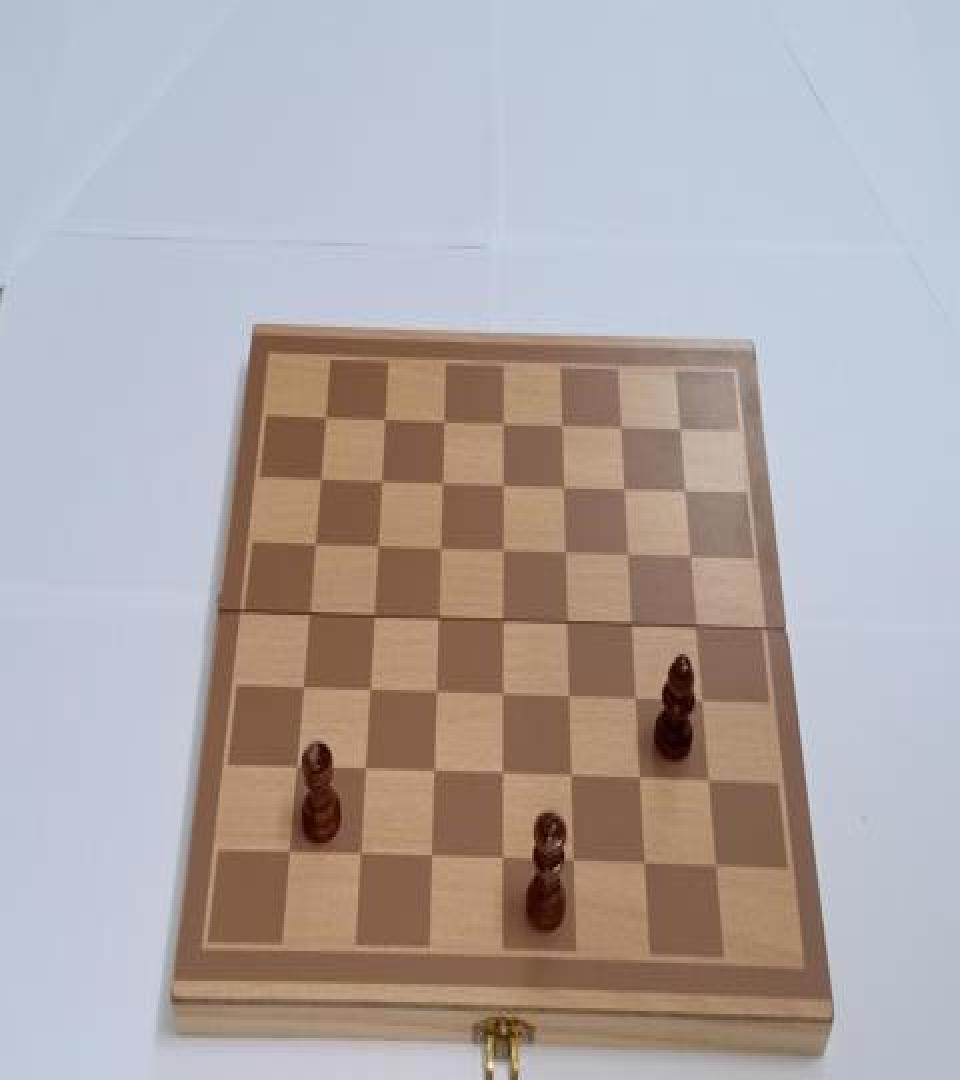xcorner: (315, 400, 333, 428), (372, 466, 390, 494), (556, 472, 574, 500), (305, 531, 323, 558), (293, 678, 311, 705), (280, 843, 298, 870), (375, 404, 393, 431), (368, 532, 386, 559), (364, 604, 382, 631), (356, 759, 374, 786), (352, 846, 370, 873), (435, 405, 453, 432), (433, 468, 451, 495), (430, 606, 448, 633), (428, 681, 446, 708), (426, 762, 444, 789), (494, 408, 512, 435), (495, 471, 513, 498), (495, 537, 513, 564), (495, 683, 513, 710), (496, 849, 514, 876), (558, 538, 576, 565), (560, 610, 578, 637), (565, 765, 583, 792), (568, 851, 586, 878), (613, 411, 631, 438), (617, 474, 635, 501), (625, 612, 643, 639), (629, 687, 647, 714), (634, 768, 652, 795), (673, 414, 691, 441), (678, 477, 696, 504), (684, 543, 702, 570), (696, 689, 714, 716), (710, 855, 728, 882), (310, 464, 328, 490), (299, 602, 317, 628), (287, 758, 305, 784), (361, 680, 379, 706), (432, 536, 450, 562), (424, 848, 442, 874), (495, 608, 513, 634), (496, 764, 514, 790), (554, 410, 572, 436), (562, 686, 580, 712), (621, 542, 639, 568), (639, 854, 657, 880), (690, 614, 708, 640), (703, 770, 721, 796)
